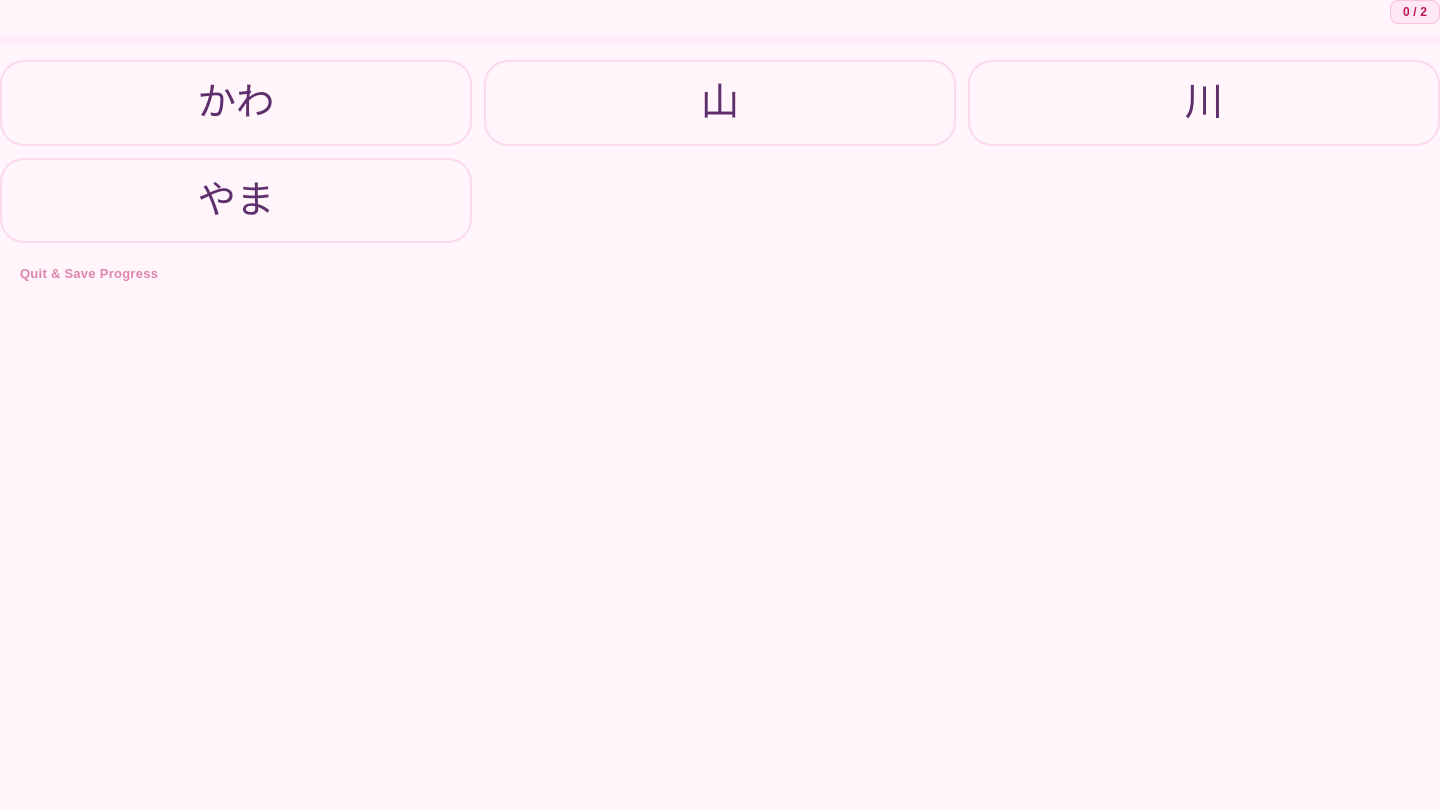
Scenario: KanjiMatchMode › counts a match as a single answer
Click the button named "山" at (720, 103), box [486,62,954,144]
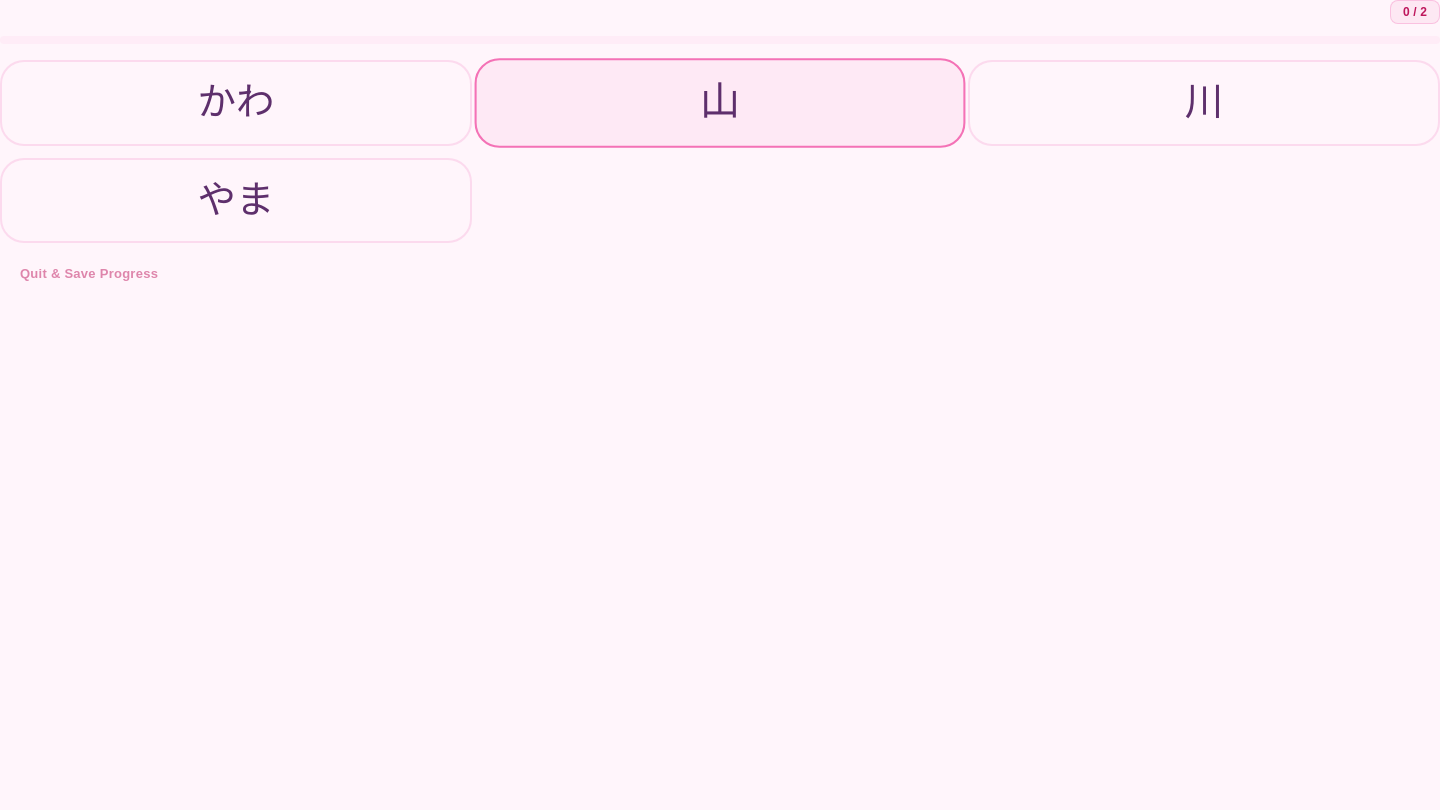
Click the button named "やま" at (236, 200), box [2,160,470,241]
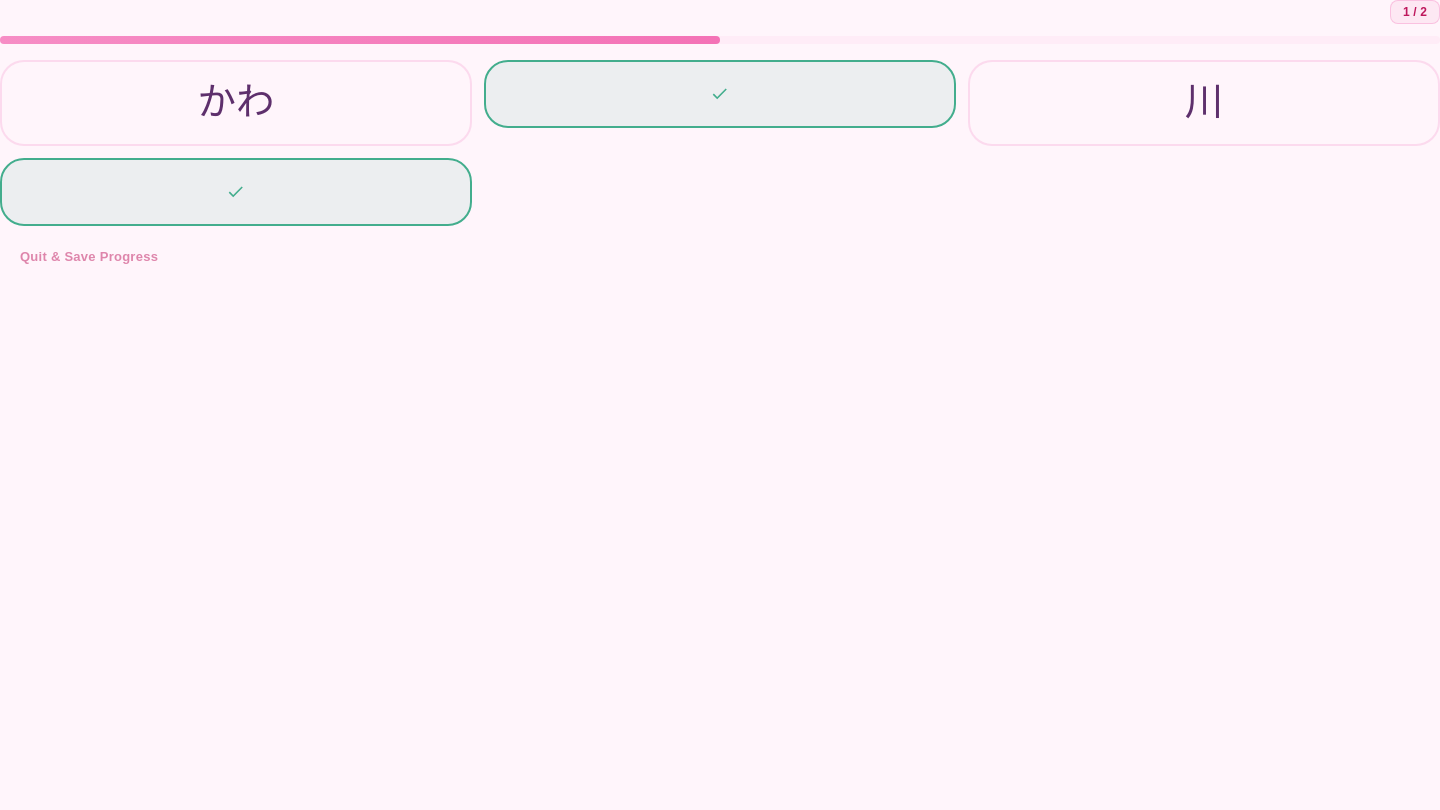
Expected: the text "1 / 2" is shown, [1403,5,1427,19]
